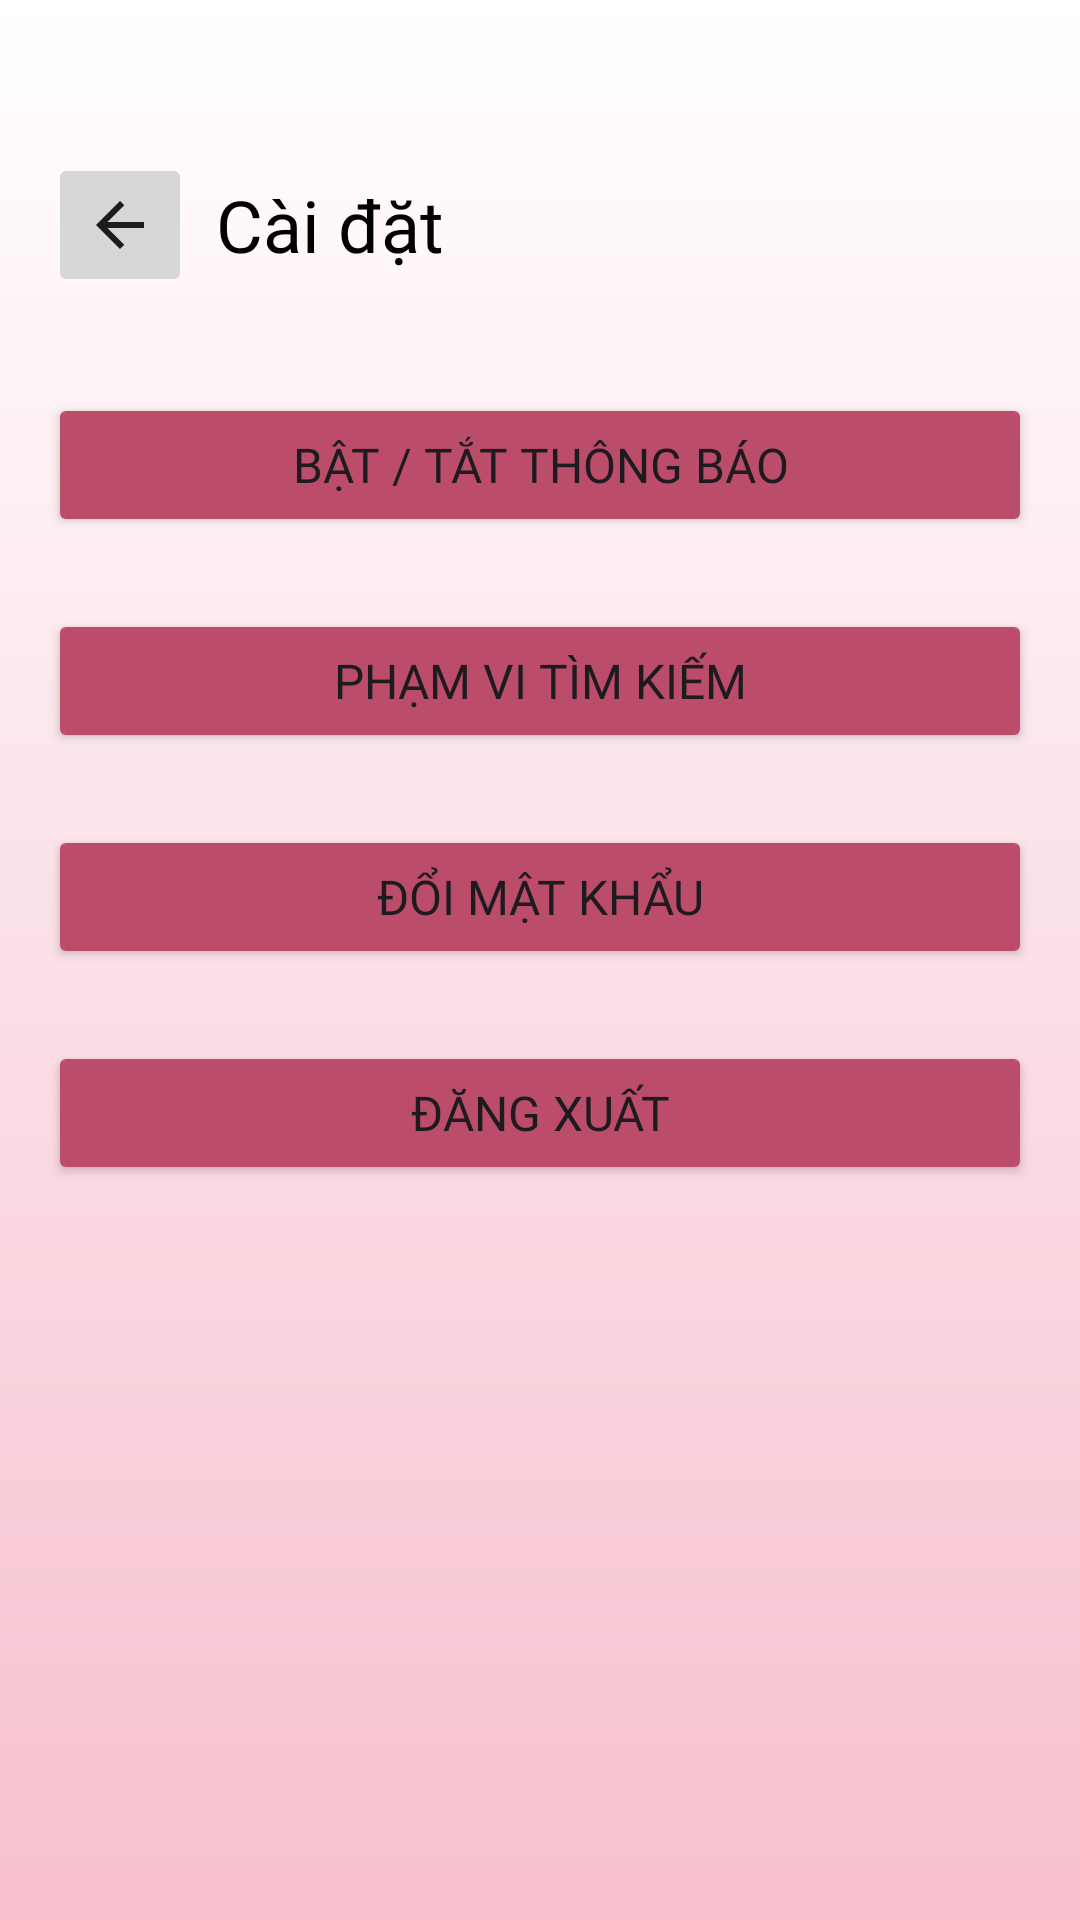

Where icons sit on this 1080px x 1920px app screen, as box(x1, y1, x2, y2):
Quay lại: box(60, 171, 180, 279)
